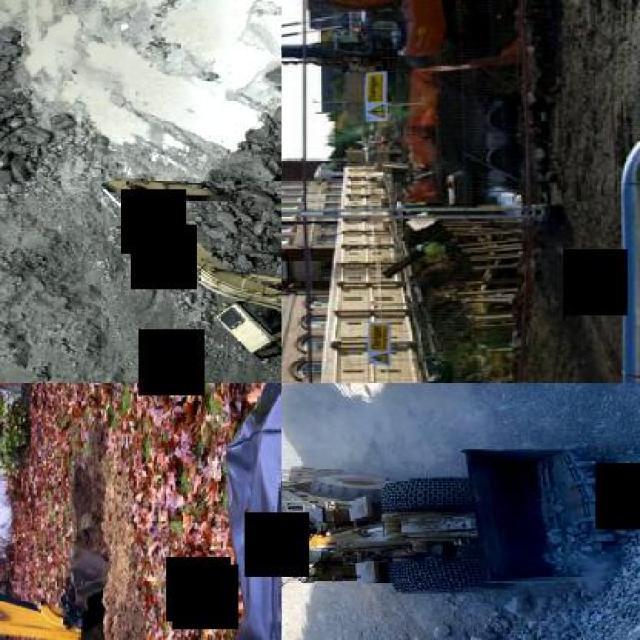buldozerpayloadergrader: (282, 440, 636, 594)
excavator: (98, 174, 280, 381), (0, 532, 198, 638), (282, 0, 486, 57)
